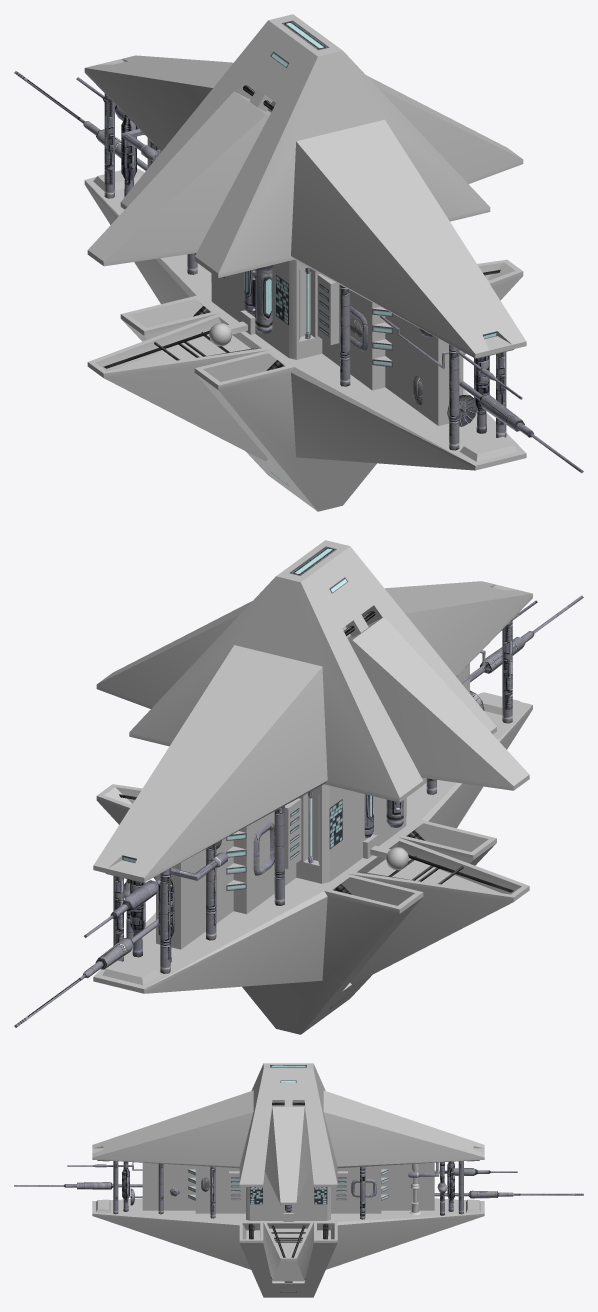
Rendered from spacestation_rsf_l1.fbx.
The picture shows the model from 3 angles, top to bottom: view 1: azimuth 30°, elevation 25°; view 2: azimuth 150°, elevation 25°; view 3: azimuth 270°, elevation 25°; orthographic projection. The views are drawn at different scales.
Visible parts, largest first — view 1: mesh_node; view 2: mesh_node; view 3: mesh_node.
Part boxes in pixels (<box>): mesh_node: <box>14,14,583,511</box>; mesh_node: <box>14,540,583,1034</box>; mesh_node: <box>14,1063,583,1297</box>.
Size of the model in its own units: 133 by 138 by 312.
